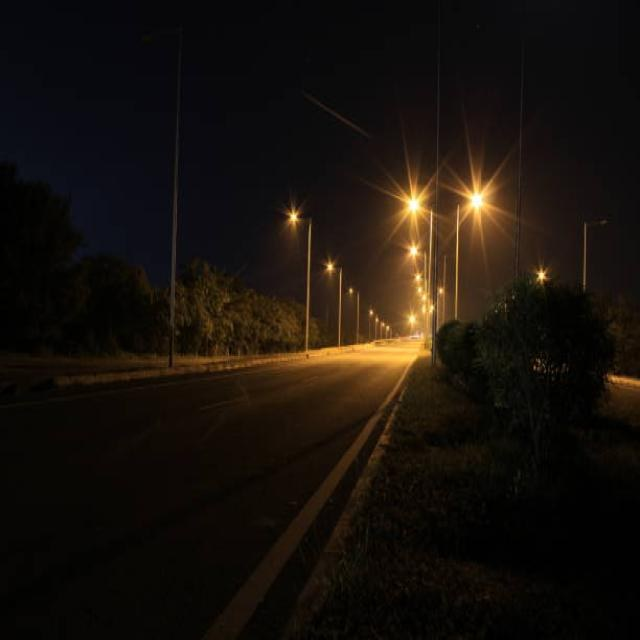acesa: (451, 154, 508, 240), (387, 157, 428, 238), (282, 197, 306, 235)
